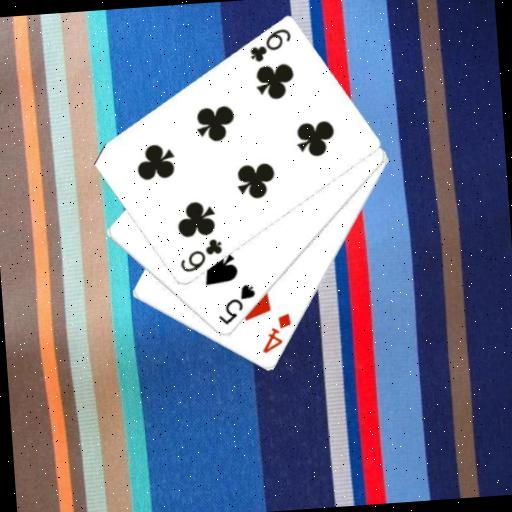4D: (257, 310, 296, 356)
5S: (214, 281, 260, 327)
6C: (175, 235, 226, 275), (246, 25, 295, 65)
